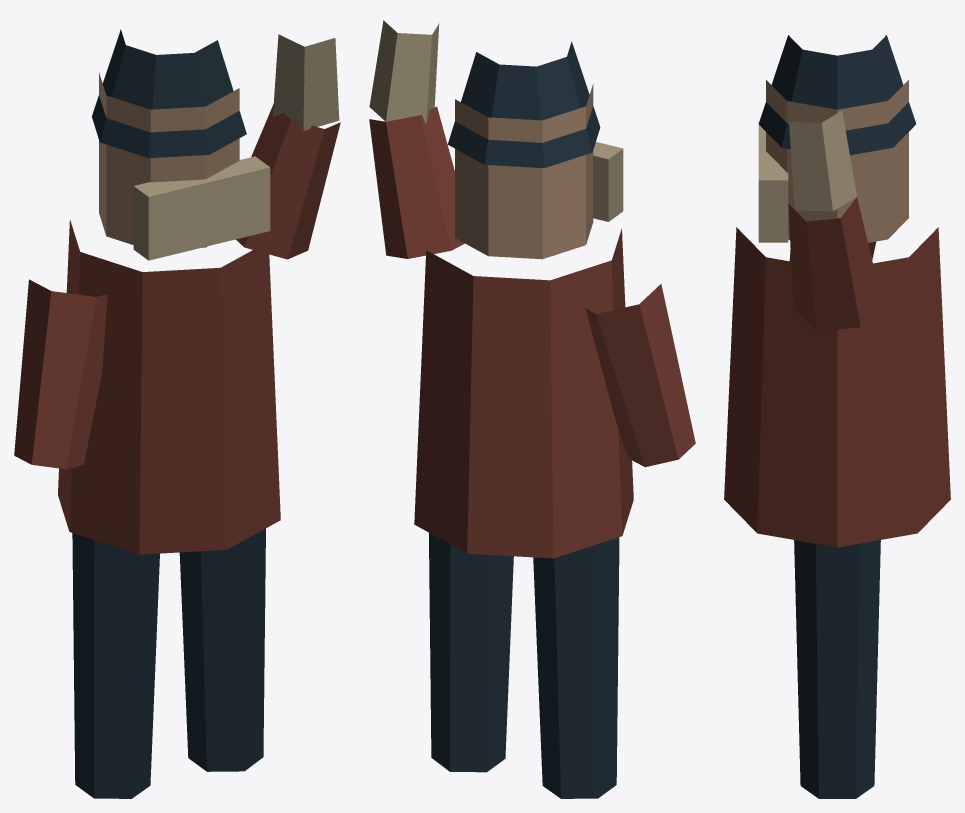
The model's file is crowd-person.glb.
3 renders of one model, left to right at view 1: azimuth 30°, elevation 25°; view 2: azimuth 150°, elevation 25°; view 3: azimuth 270°, elevation 25°, orthographic.
Visible parts, largest first — view 1: crowd-person; view 2: crowd-person; view 3: crowd-person.
Part boxes in pixels (bbox=[...]): crowd-person: bbox=[14, 29, 340, 798]; crowd-person: bbox=[369, 20, 695, 798]; crowd-person: bbox=[724, 35, 950, 798].
Bounding box in the file's own units: 0.7256 × 1.62 × 0.46.
